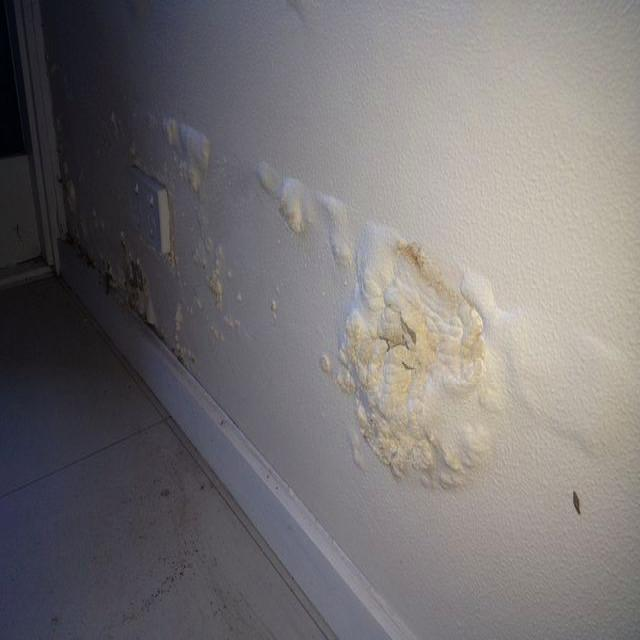Water_Leakage: (54, 78, 640, 530)
